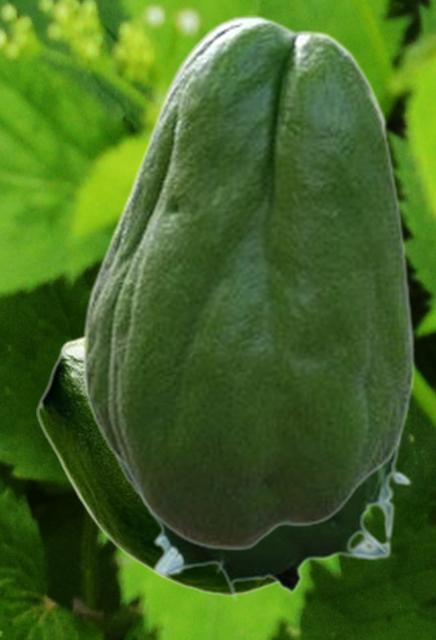sayote: (82, 15, 415, 550), (36, 333, 275, 595), (115, 432, 411, 601)
